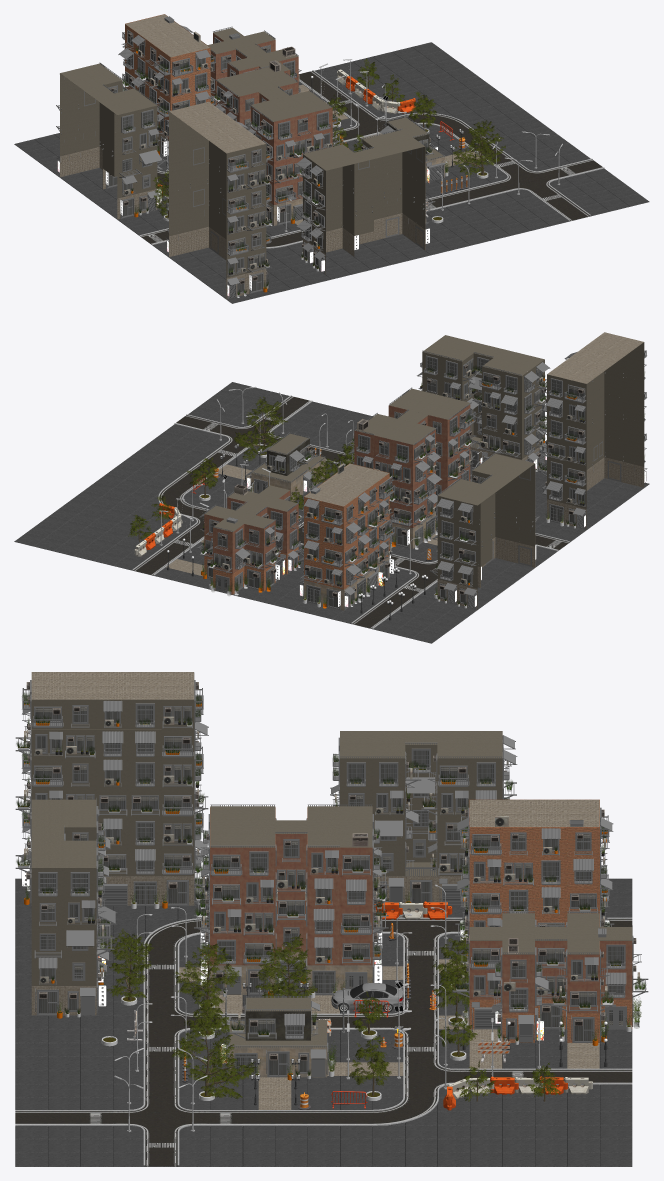
The model's file is neighbourhood.glb.
3 views of the same model, one above another, from view 1: azimuth 30°, elevation 25°; view 2: azimuth 150°, elevation 25°; view 3: azimuth 270°, elevation 25° (orthographic). The views are drawn at different scales.
Parts seen in each view (by area): view 1: Road_1_Modular_Road_0001_462, 10_Window_0010_505, 3_Window_0001_77, 3_Window_0004_501, Window_AC_AC_0001_491, Wall005_Wall_0_0001_504, Split_Ac_AC_0001_470, Pot_9003_Low_PolyPlant_0002_473, 3_Window_0003_471, Road_4_Modular_Road_0001_177, Road_0_Modular_Road_0004_67, Road_2_Modular_Road_0002_45 (+5 smaller); view 2: Road_1_Modular_Road_0001_462, 10_Window_0010_505, Window_AC_AC_0001_491, Wall005_Wall_0_0001_504, 3_Window_0004_501, 3_Window_0001_77, Split_Ac_AC_0001_470, 3_Window_0003_471, Pot_9003_Low_PolyPlant_0002_473, Road_4_Modular_Road_0001_177, Road_0_Modular_Road_0013_197, Road_0_Modular_Road_0009_493 (+4 smaller); view 3: Road_1_Modular_Road_0001_462, 10_Window_0010_505, Window_AC_AC_0001_491, 3_Window_0004_501, Split_Ac_AC_0001_470, Wall005_Wall_0_0001_504, 3_Window_0001_77, 3_Window_0003_471, Pot_9003_Low_PolyPlant_0002_473, Road_4_Modular_Road_0001_177, Pot_9003_Low_PolyPlant_0011_502, Pot_9003_Low_PolyPlant_0001_472 (+19 smaller).
Part boxes in pixels (left/top/right/bottom): Road_1_Modular_Road_0001_462: left=14, top=42, right=649, bottom=303; 10_Window_0010_505: left=166, top=101, right=271, bottom=299; 3_Window_0001_77: left=296, top=128, right=435, bottom=274; 3_Window_0004_501: left=56, top=62, right=166, bottom=219; Window_AC_AC_0001_491: left=208, top=60, right=340, bottom=225; Wall005_Wall_0_0001_504: left=118, top=14, right=215, bottom=160; Split_Ac_AC_0001_470: left=207, top=26, right=301, bottom=105; Pot_9003_Low_PolyPlant_0002_473: left=452, top=120, right=505, bottom=178; 3_Window_0003_471: left=379, top=116, right=449, bottom=183; Road_4_Modular_Road_0001_177: left=493, top=165, right=564, bottom=195; Road_0_Modular_Road_0004_67: left=433, top=183, right=504, bottom=207; Road_2_Modular_Road_0002_45: left=341, top=112, right=402, bottom=139; Road_1_Modular_Road_0001_462: left=14, top=382, right=649, bottom=643; 10_Window_0010_505: left=537, top=332, right=647, bottom=529; Window_AC_AC_0001_491: left=346, top=387, right=478, bottom=549; Wall005_Wall_0_0001_504: left=295, top=463, right=394, bottom=610; 3_Window_0004_501: left=430, top=452, right=539, bottom=609; 3_Window_0001_77: left=417, top=335, right=550, bottom=471; Split_Ac_AC_0001_470: left=196, top=484, right=301, bottom=596; 3_Window_0003_471: left=245, top=432, right=325, bottom=501; Pot_9003_Low_PolyPlant_0002_473: left=234, top=396, right=287, bottom=461; Road_4_Modular_Road_0001_177: left=214, top=421, right=282, bottom=451; Road_0_Modular_Road_0013_197: left=132, top=544, right=188, bottom=575; Road_0_Modular_Road_0009_493: left=363, top=589, right=418, bottom=620; Road_1_Modular_Road_0001_462: left=15, top=878, right=632, bottom=1166; 10_Window_0010_505: left=15, top=672, right=208, bottom=908; Window_AC_AC_0001_491: left=194, top=804, right=388, bottom=998; 3_Window_0004_501: left=330, top=731, right=517, bottom=905; Split_Ac_AC_0001_470: left=453, top=911, right=648, bottom=1045; Wall005_Wall_0_0001_504: left=455, top=799, right=614, bottom=970; 3_Window_0001_77: left=31, top=798, right=117, bottom=1018; 3_Window_0003_471: left=220, top=996, right=336, bottom=1080; Pot_9003_Low_PolyPlant_0002_473: left=171, top=1011, right=256, bottom=1100; Road_4_Modular_Road_0001_177: left=113, top=1096, right=210, bottom=1138; Pot_9003_Low_PolyPlant_0011_502: left=104, top=928, right=154, bottom=1005; Pot_9003_Low_PolyPlant_0001_472: left=255, top=934, right=317, bottom=997.
Size of the model in its own units: 42 by 14.05 by 39.18.
22 materials, 21 textured.
